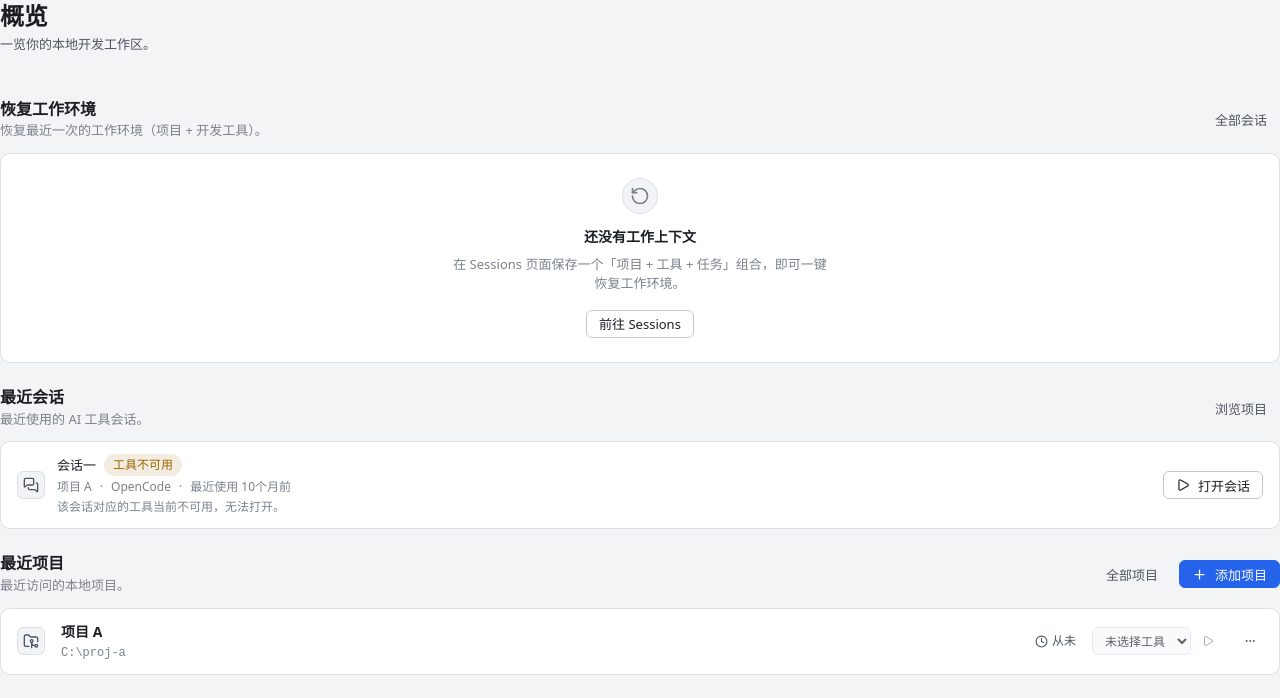
Scenario: 概览：最近会话 › 工具不可用时禁用确认且不打开项目 / 不创建会话
Click the button "打开会话". click: (1213, 485)
box: [1163, 471, 1263, 499]
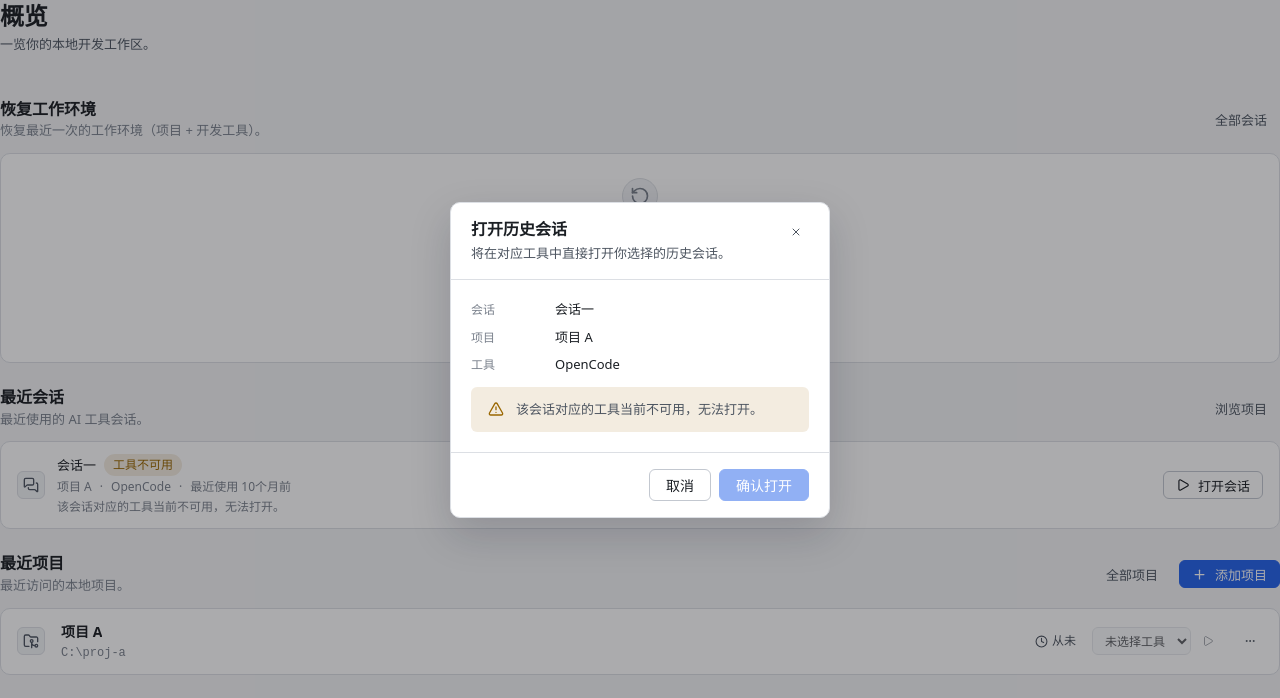
Check: the text "该会话对应的工具当前不可用，无法打开。" is shown, box [516, 400, 763, 419]
Check: the button "确认打开" is disabled, box [719, 469, 809, 501]
